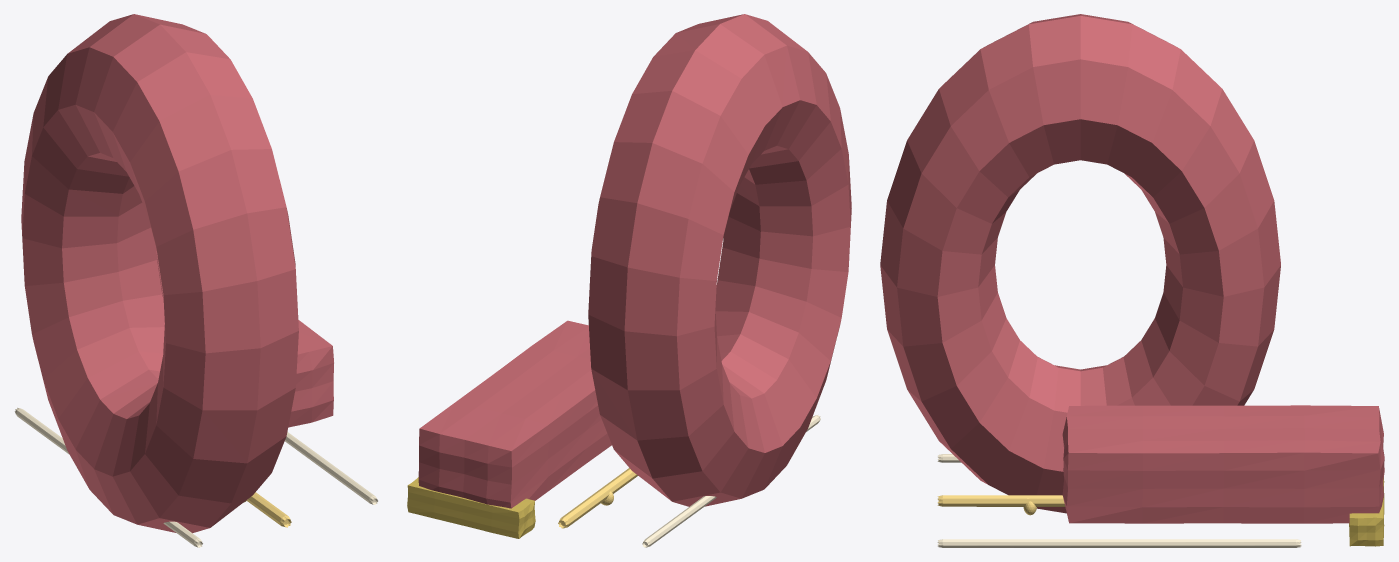
File: bufanda.glb
The picture shows the model from 3 angles, left to right: view 1: azimuth 30°, elevation 25°; view 2: azimuth 150°, elevation 25°; view 3: azimuth 270°, elevation 25°; orthographic projection. The views are drawn at different scales.
Visible parts, largest first — view 1: bufanda_00, bufanda_01, Detalle_02, Detalle_01, Detalle_03; view 2: bufanda_00, bufanda_01, bufanda_02, Detalle_03, Detalle_01; view 3: bufanda_00, bufanda_01, Detalle_02, Detalle_03, bufanda_02.
Part boxes in pixels (box(x1,y1,x2,y2)): bufanda_00: box(21, 14, 298, 533); bufanda_01: box(156, 251, 333, 427); Detalle_02: box(285, 432, 377, 504); Detalle_01: box(14, 407, 202, 547); Detalle_03: box(246, 492, 291, 527); bufanda_00: box(588, 14, 851, 506); bufanda_01: box(418, 320, 611, 508); bufanda_02: box(407, 477, 535, 538); Detalle_03: box(558, 468, 637, 528); Detalle_01: box(642, 415, 820, 547); bufanda_00: box(880, 14, 1280, 513); bufanda_01: box(1062, 405, 1384, 523); Detalle_02: box(937, 539, 1301, 547); Detalle_03: box(937, 495, 1065, 506); bufanda_02: box(1349, 477, 1384, 546).
Bounding box in the file's own units: 0.3055 × 0.5958 × 0.5469.
